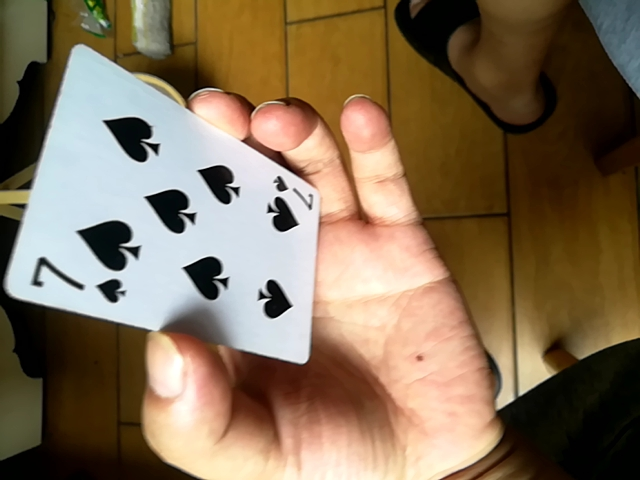ht 7: (2, 46, 319, 379)
